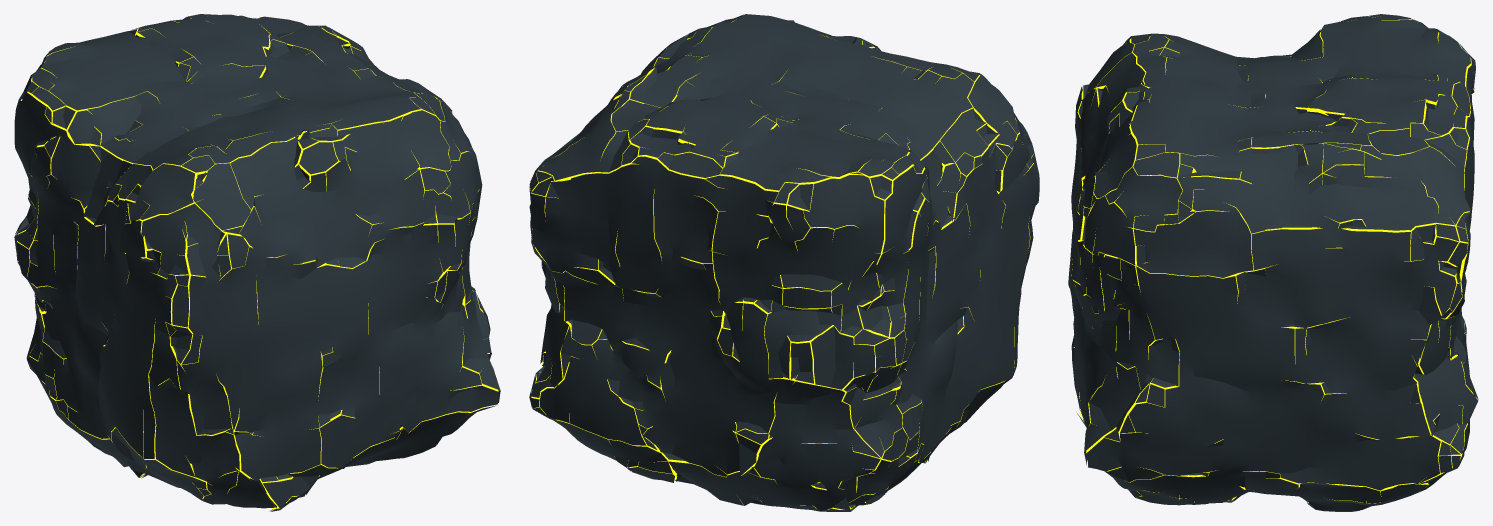
3 views of the same model, side by side, from view 1: azimuth 30°, elevation 25°; view 2: azimuth 150°, elevation 25°; view 3: azimuth 270°, elevation 25° (orthographic). The views are drawn at different scales.
Visible parts, largest first — view 1: Cube_0; view 2: Cube_0; view 3: Cube_0.
Part boxes in pixels (left/top/right/bottom): Cube_0: left=14, top=14, right=500, bottom=511; Cube_0: left=529, top=14, right=1039, bottom=511; Cube_0: left=1068, top=14, right=1478, bottom=511.
Size of the model in its own units: 2.02 by 2.04 by 2.01.
